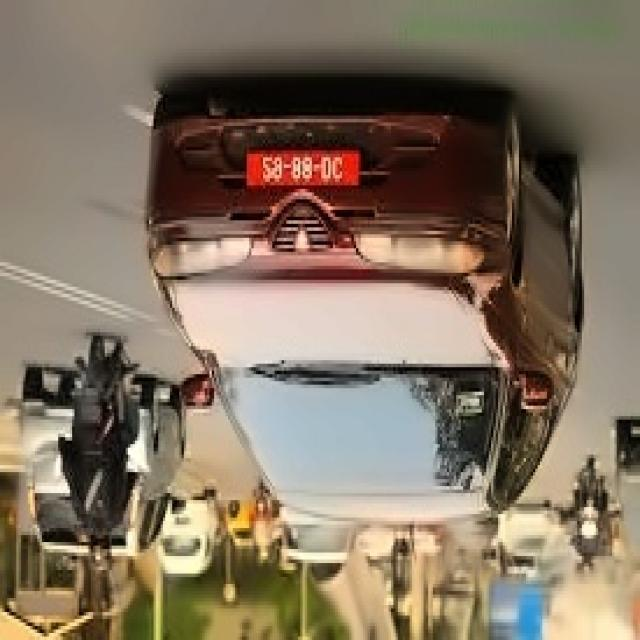car-plate: (244, 152, 361, 193)
